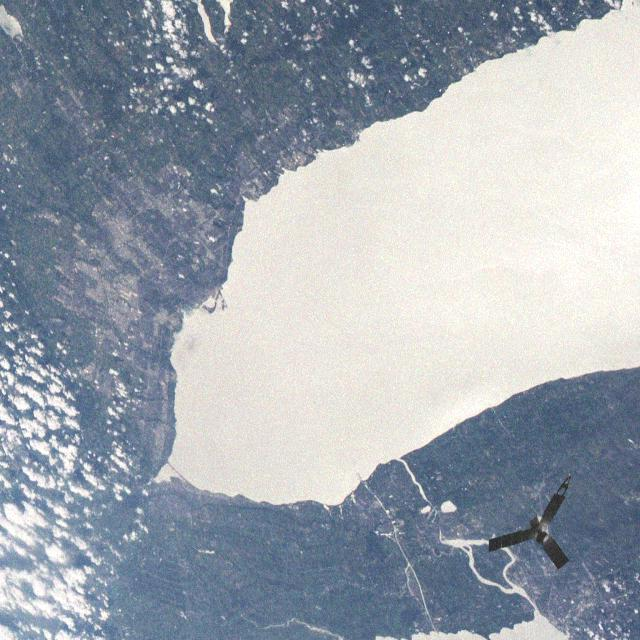satellite: (471, 470, 588, 591)
